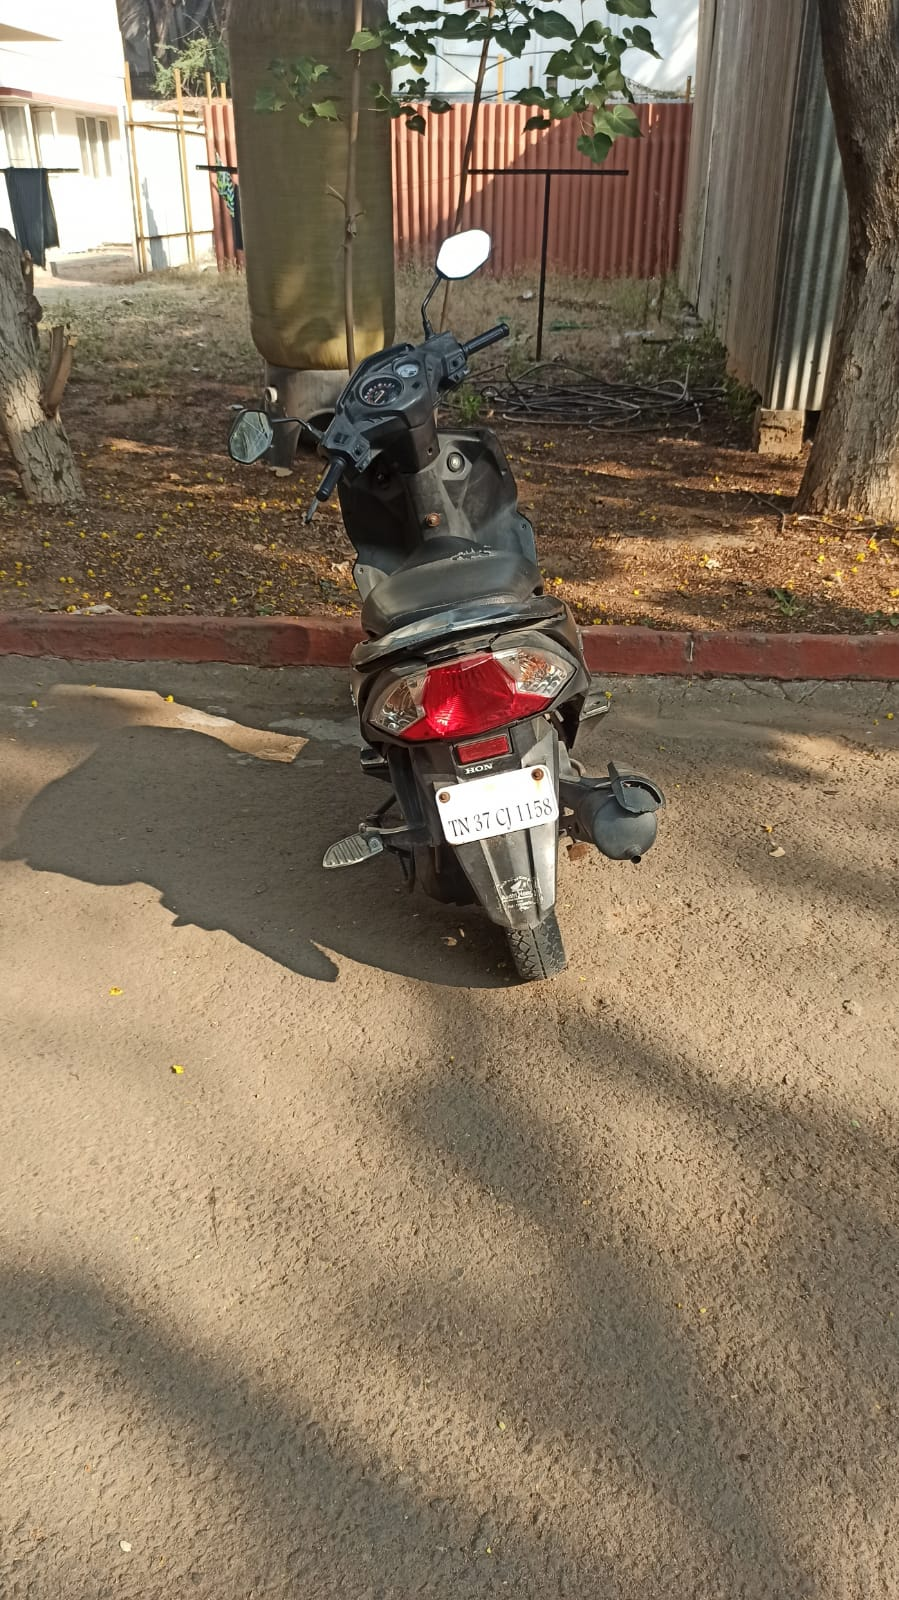numberplate: (403, 758, 603, 844)
scooter: (205, 289, 720, 1024)
